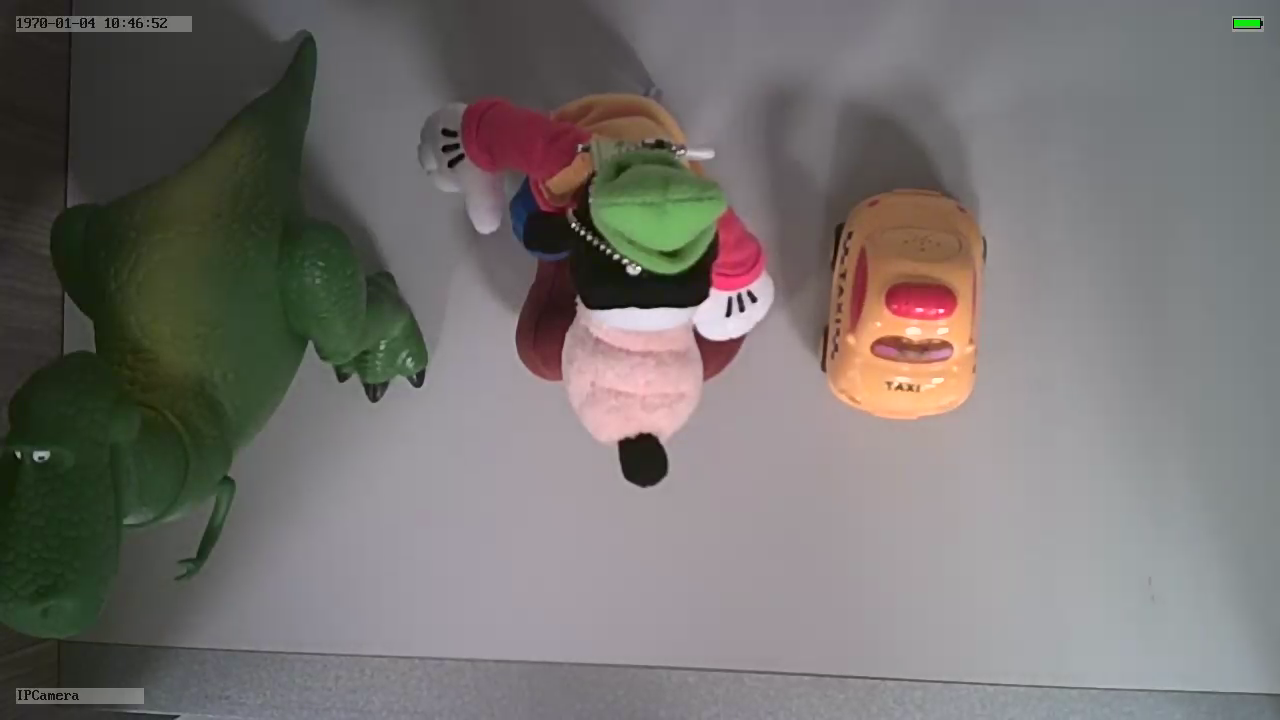goofy: (418, 92, 779, 485)
